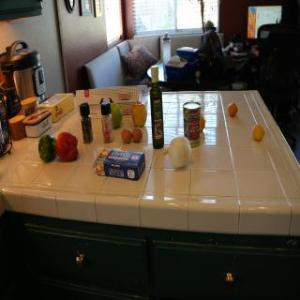bell_pepper: (57, 132, 79, 164), (37, 134, 57, 164)
egg: (132, 126, 144, 144), (120, 128, 132, 144)
onion: (164, 136, 194, 170)
